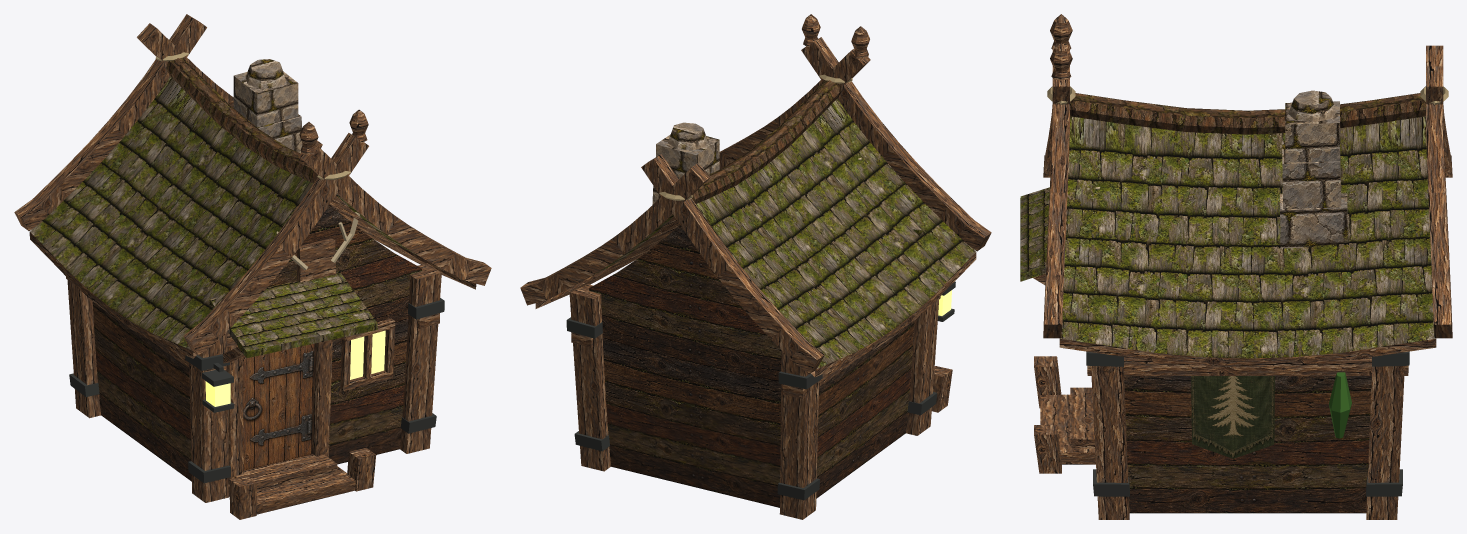
The model's file is house-forest-trail-01.glb.
3 renders of one model, left to right at view 1: azimuth 30°, elevation 25°; view 2: azimuth 150°, elevation 25°; view 3: azimuth 270°, elevation 25°, orthographic. The views are drawn at different scales.
Visible parts, largest first — view 1: roof_-1, gable_-1, side_-1, porch_roof, door, barge_-1_-1, barge_1_-1, post_1_-1, barge_-1_1, ridge, post_-1_-1, chimney (+17 smaller); view 2: roof_-1, gable_1, side_-1, barge_1_-1, barge_-1_-1, post_-1_1, barge_1_1, post_1_1, ridge, post_-1_-1, barge_-1_1, chimney (+6 smaller); view 3: roof_1, side_1, chimney, ridge, banner, barge_1_1, post_1_1, post_1_-1, barge_-1_1, roof_edge_1, plate_1, porch_roof (+12 smaller).
Boxes of the visible parts, box(x1,y1,x2,y2) form: roof_-1: box(30, 76, 313, 349); gable_-1: box(267, 204, 422, 464); side_-1: box(92, 301, 191, 481); porch_roof: box(209, 272, 377, 358); door: box(243, 343, 314, 470); barge_-1_-1: box(183, 133, 368, 355); barge_1_-1: box(14, 14, 206, 230); post_1_-1: box(400, 263, 441, 453); barge_-1_1: box(299, 144, 491, 285); ridge: box(166, 58, 317, 183); post_-1_-1: box(189, 331, 228, 502); chimney: box(233, 71, 302, 153); roof_-1: box(696, 99, 975, 368); gable_1: box(589, 225, 781, 507); side_-1: box(816, 321, 914, 498); barge_1_-1: box(641, 154, 824, 374); barge_-1_-1: box(801, 37, 991, 251); post_-1_1: box(779, 350, 818, 519); barge_1_1: box(520, 163, 710, 305); post_1_1: box(569, 283, 610, 471); ridge: box(692, 80, 841, 203); post_-1_-1: box(906, 298, 939, 435); barge_-1_1: box(719, 49, 870, 169); chimney: box(646, 134, 719, 252); roof_1: box(1060, 116, 1435, 358); side_1: box(1124, 376, 1371, 513); chimney: box(1280, 101, 1348, 248); ridge: box(1070, 93, 1425, 134); banner: box(1191, 376, 1274, 458); barge_1_1: box(1426, 45, 1452, 338); post_1_1: box(1366, 366, 1404, 519); post_1_-1: box(1091, 366, 1129, 519); barge_-1_1: box(1043, 45, 1069, 338); roof_edge_1: box(1059, 339, 1436, 367); plate_1: box(1087, 357, 1408, 375); porch_roof: box(1020, 187, 1049, 281).
Size of the model in its own units: 2.84 by 3.36 by 3.07.
13 materials, 8 textured.
